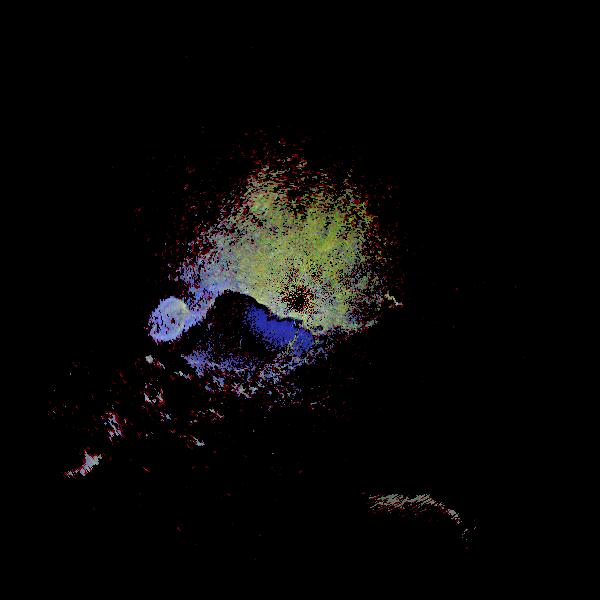roost: (327, 450, 513, 600)
